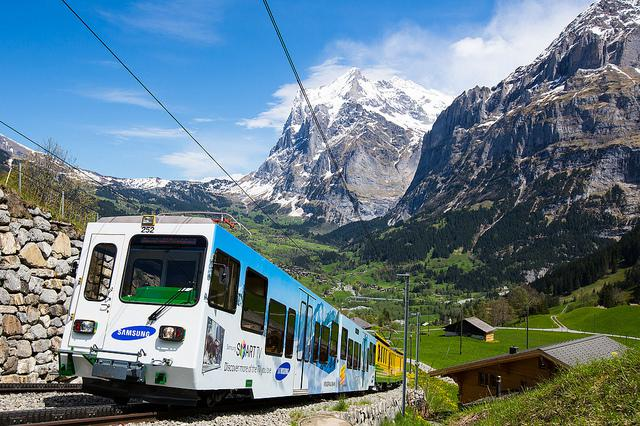Train: (58, 212, 408, 406)
